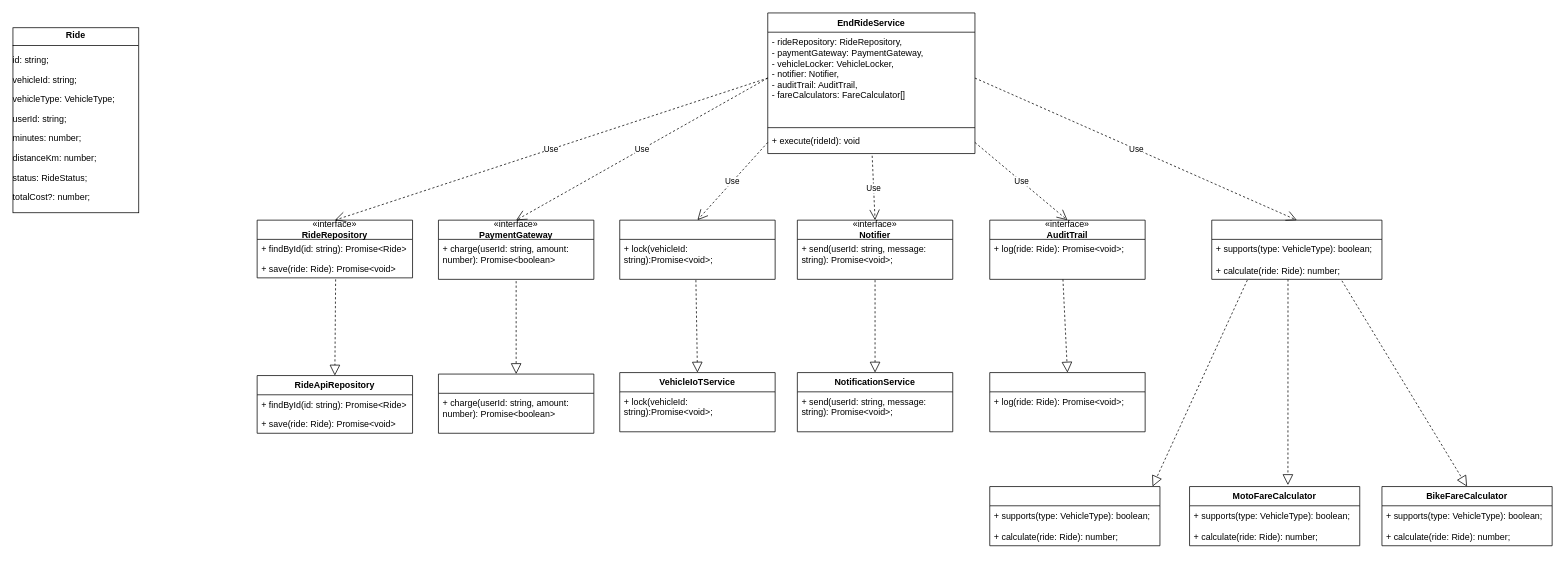
This 1565x561 diagram has some shape labels left out. Here are the shapes that lost their labels. From the top down, the box of each, then its label:
(619, 219, 775, 279): «interface» VehicleLocker
(1211, 219, 1382, 279): «interface» FareCalculator
(438, 373, 594, 433): PaymentService
(989, 372, 1145, 432): AuditLogger
(989, 486, 1160, 546): CarFareCalculator
